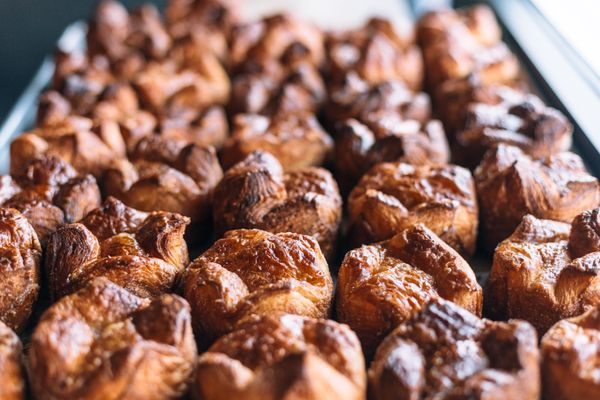salad: (335, 222, 485, 338), (366, 298, 541, 396), (193, 312, 367, 397), (211, 148, 343, 260), (472, 143, 599, 251), (346, 160, 479, 260), (380, 222, 485, 318), (539, 307, 600, 397)
